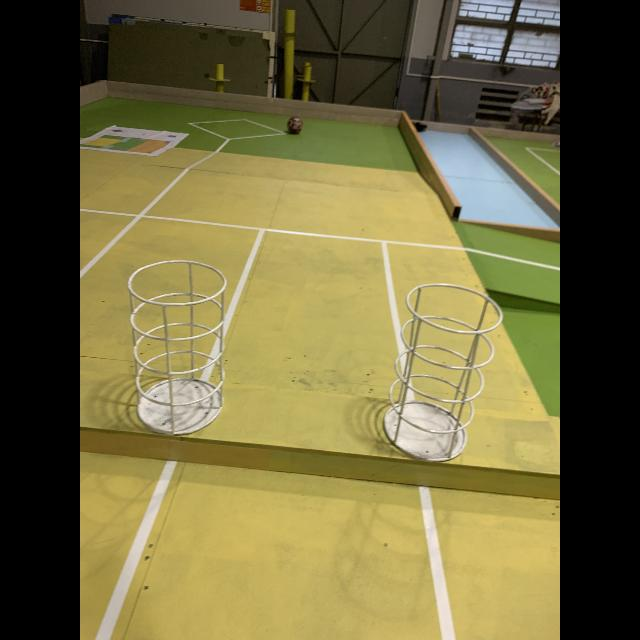S: (382, 281, 503, 465), (126, 257, 228, 438)
